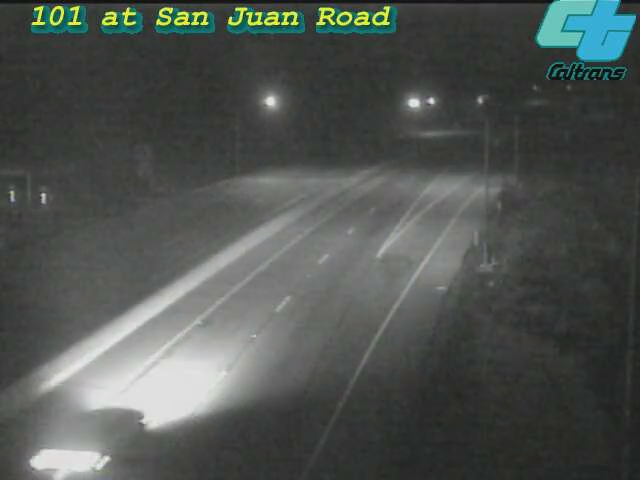vehicle: (39, 385, 149, 480)
